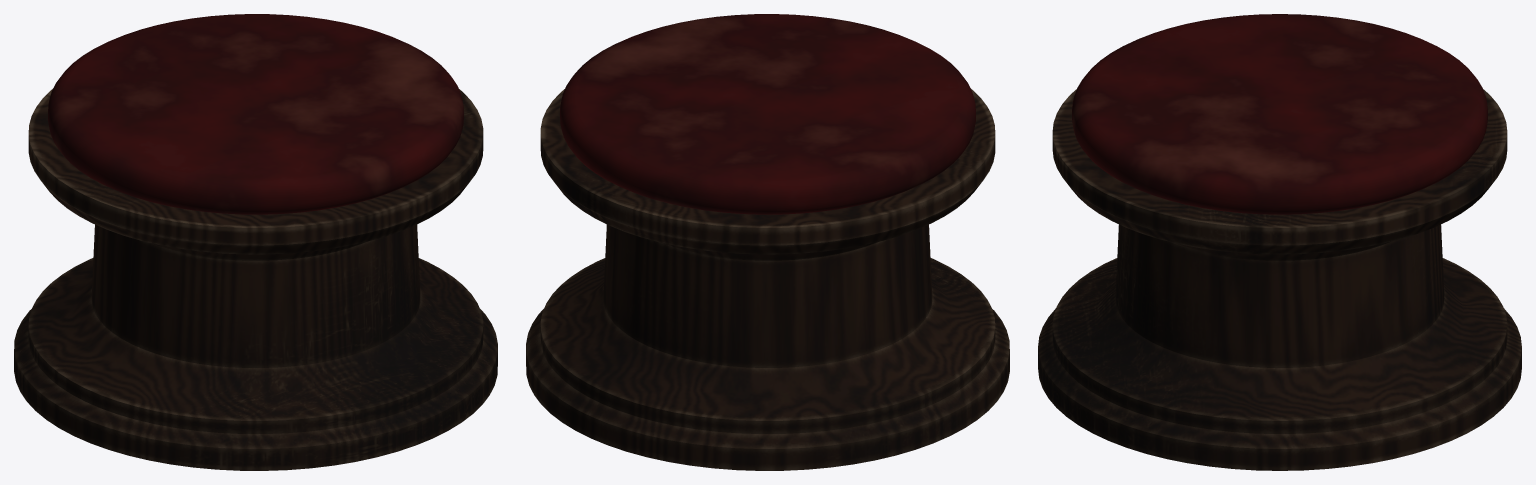
File: shoe_stand.glb
3 renders of one model, left to right at view 1: azimuth 30°, elevation 25°; view 2: azimuth 150°, elevation 25°; view 3: azimuth 270°, elevation 25°, orthographic.
Visible parts, largest first — view 1: Stand, Cushion; view 2: Stand, Cushion; view 3: Stand, Cushion.
Part boxes in pixels (left/top/right/bottom): Stand: left=14, top=89, right=497, bottom=470; Cushion: left=48, top=14, right=463, bottom=214; Stand: left=526, top=89, right=1009, bottom=470; Cushion: left=560, top=14, right=975, bottom=214; Stand: left=1038, top=89, right=1521, bottom=470; Cushion: left=1072, top=14, right=1487, bottom=214.
Bounding box in the file's own units: 0.5 × 0.31 × 0.5.
2 materials, 2 textured.
